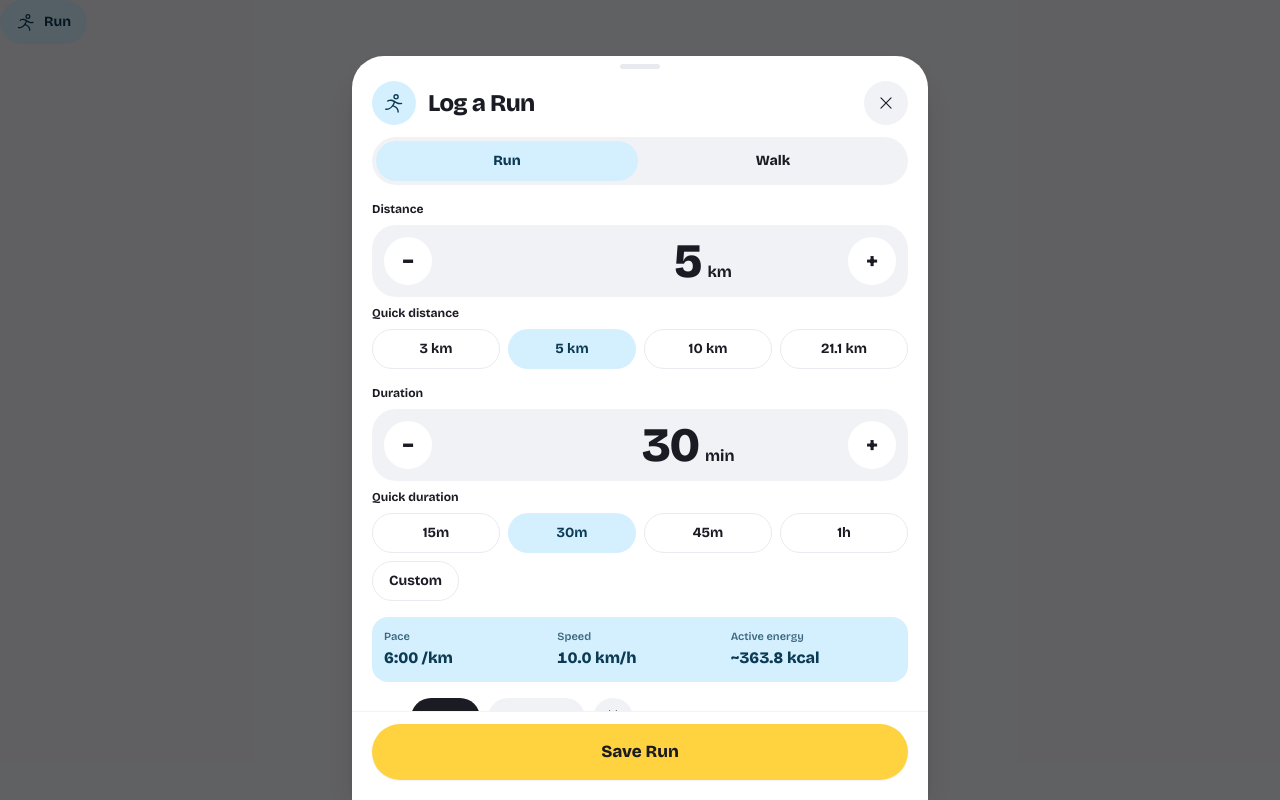
Test: RunLogger › handles generic error on submit
Click the button "Save Run" at (640, 752), box [372, 724, 908, 780]
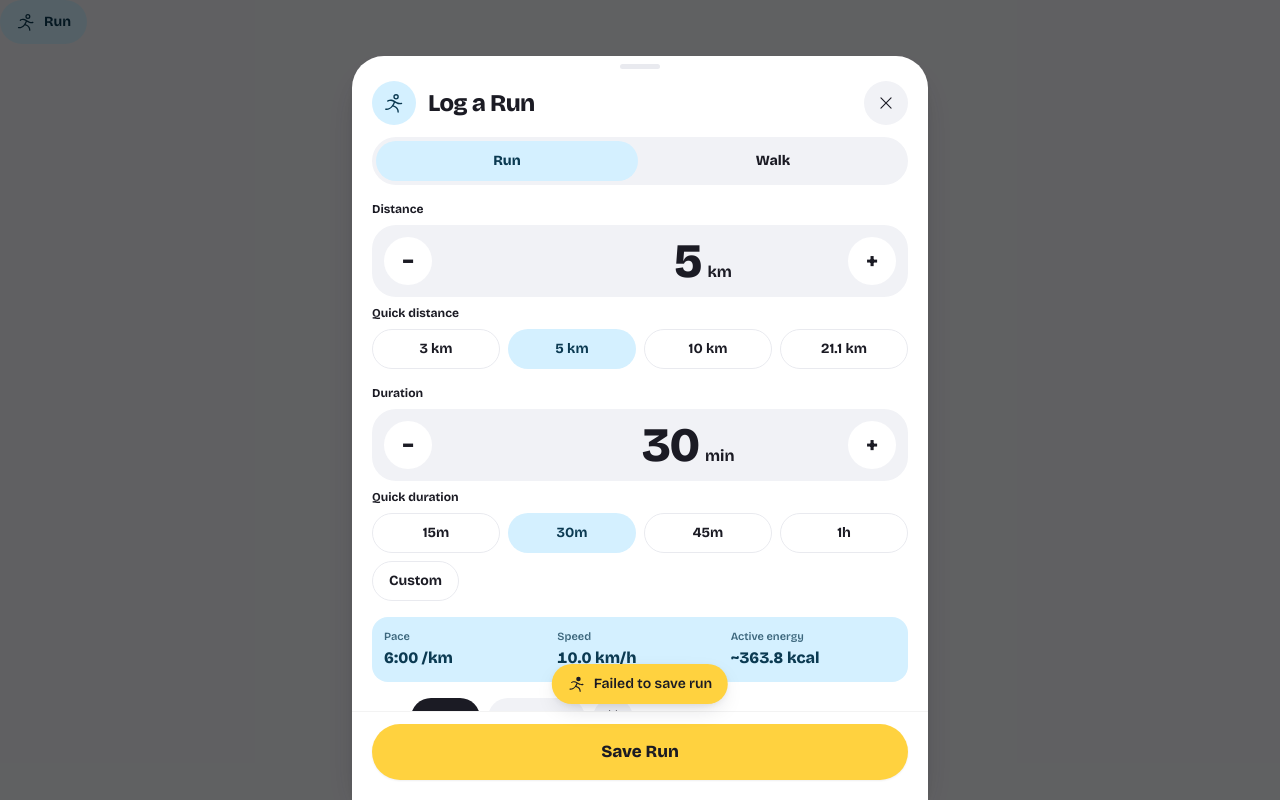
Now the text "Failed to save run" is shown, box [552, 664, 728, 704]
